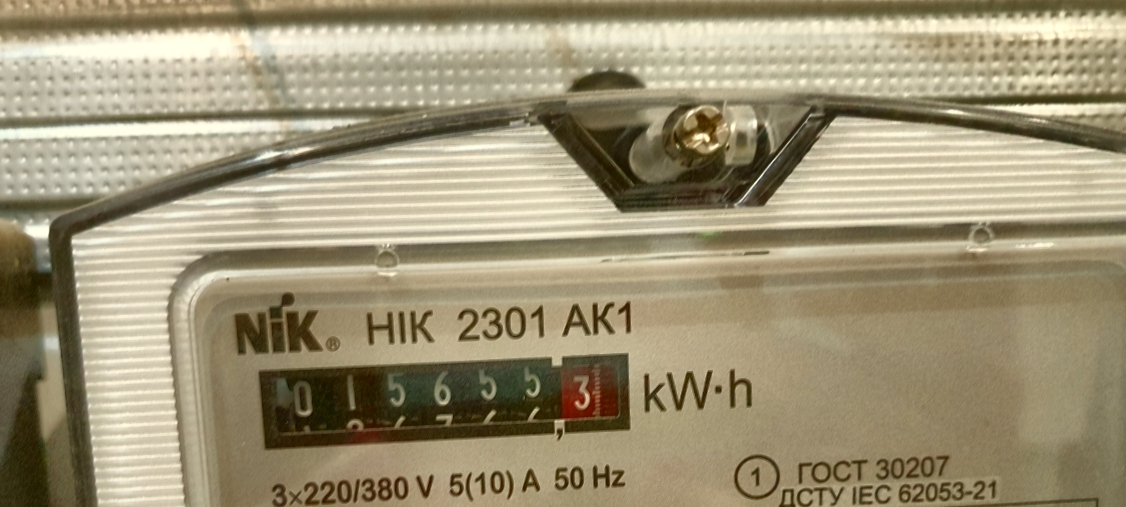0: (290, 377, 317, 419)
1: (342, 373, 362, 413)
3: (572, 374, 593, 411)
5: (384, 372, 410, 408), (477, 368, 501, 401), (523, 366, 544, 399)
6: (431, 370, 455, 407)
screen: (245, 334, 648, 467)
